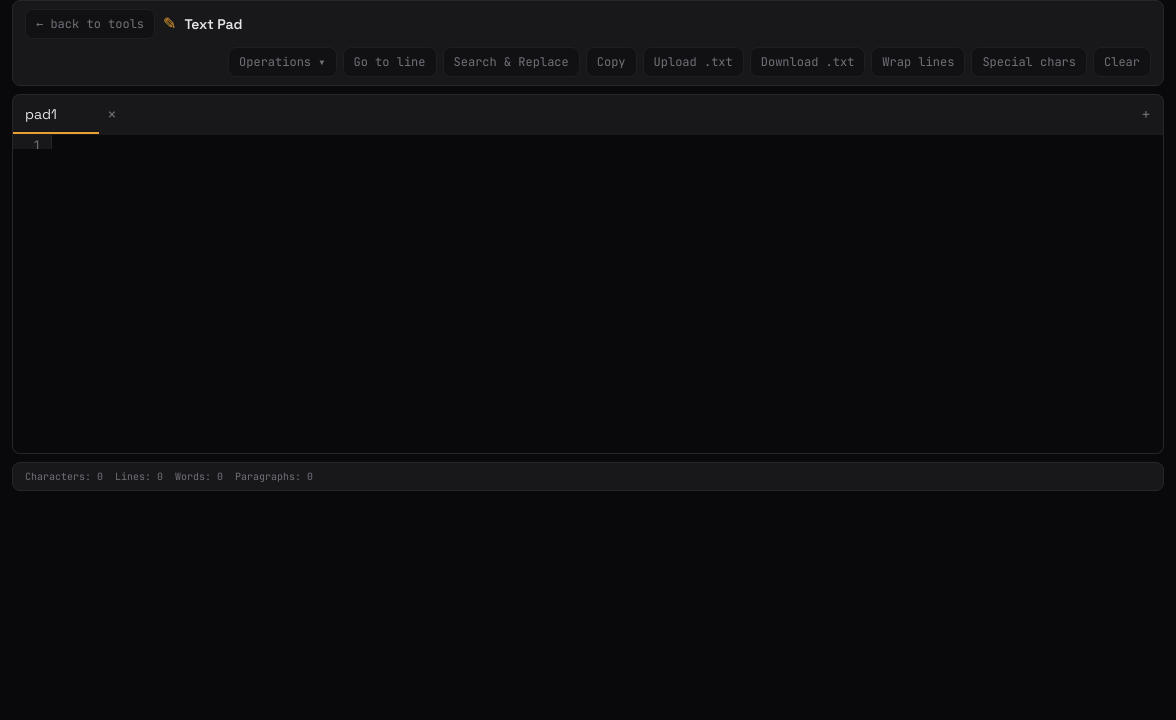
Test: TextPadView › shows close undo notices in a fixed three-item toast stack
Expected: the element with class "cm-editor" is shown, [13,135,1163,184]
Click the button named "New tab": (1146, 115) [1129,95,1163,135]
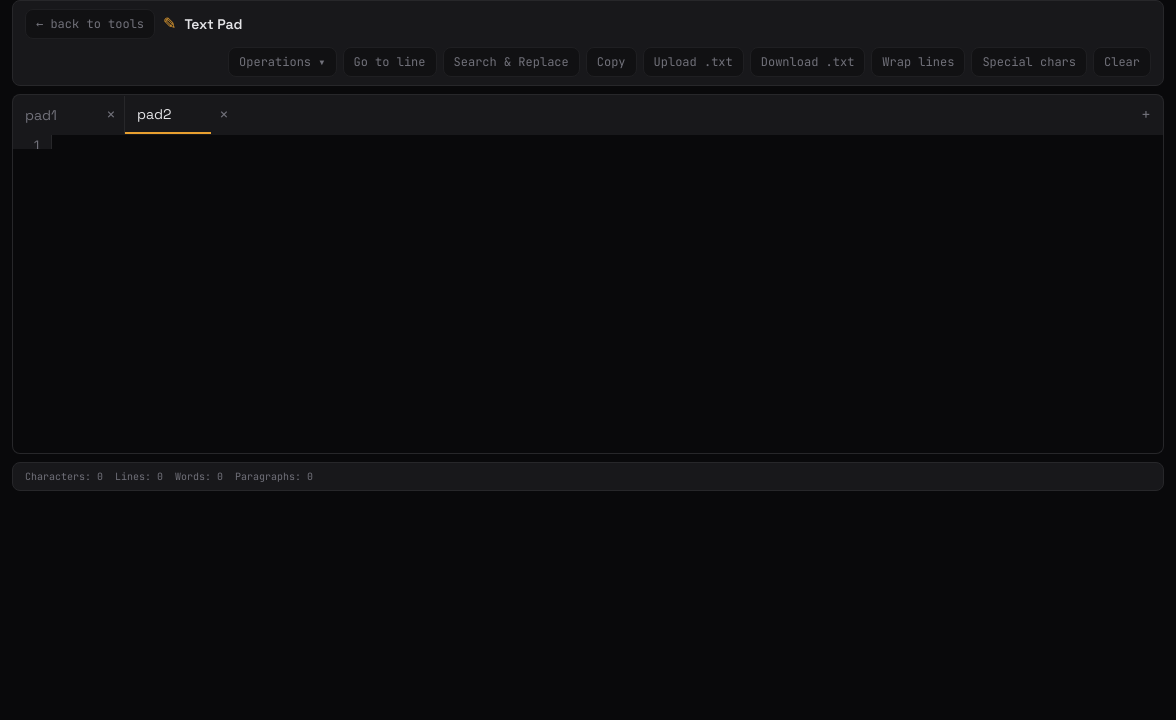
Click the button named "New tab": (1146, 115) [1129,95,1163,135]
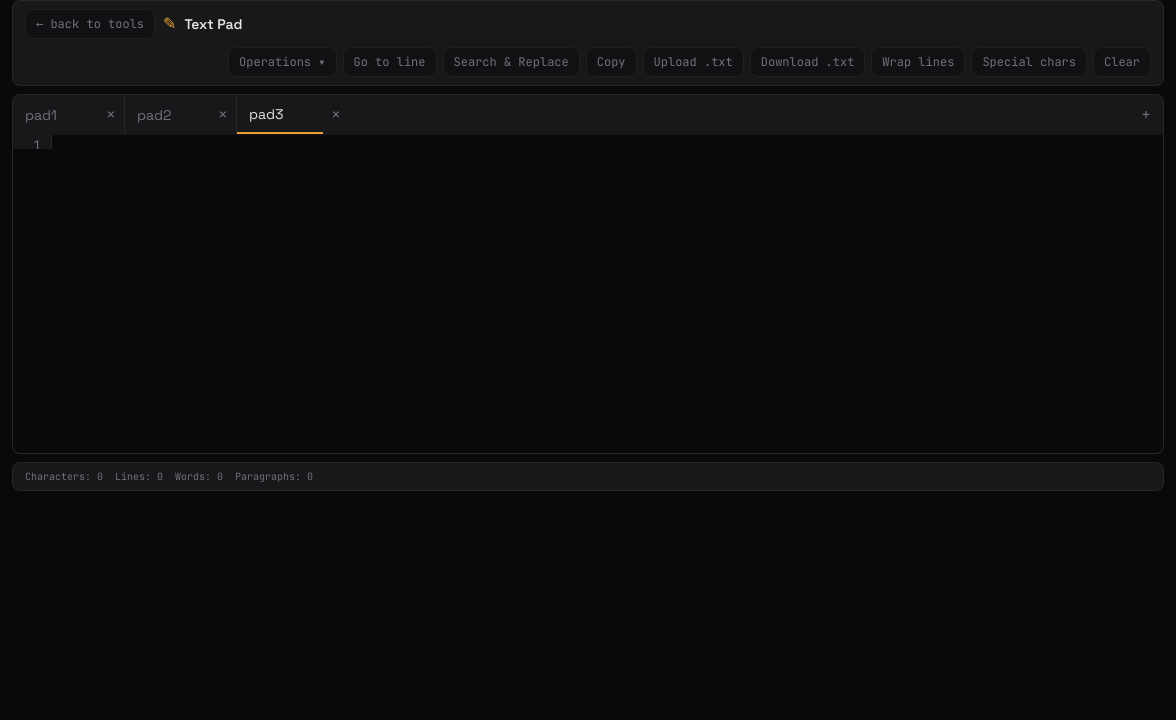
Click the button named "New tab": (1146, 115) [1129,95,1163,135]
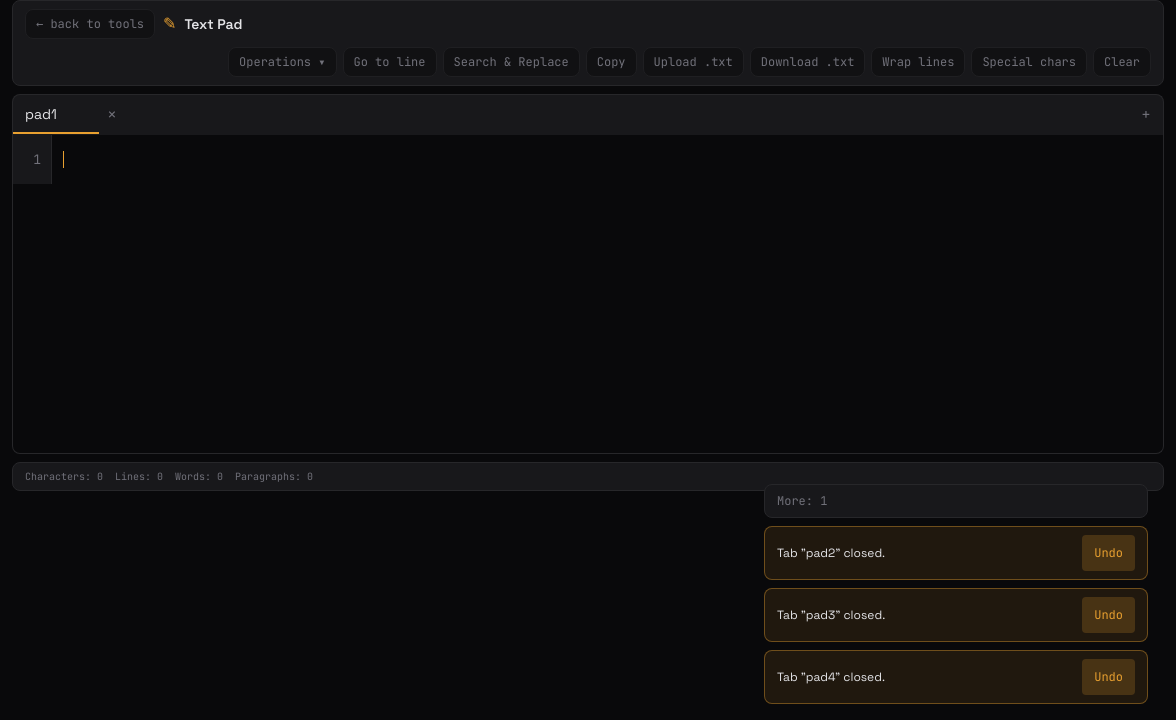
Now the element showing "More: 1" is shown, box [764,484,1148,518]
